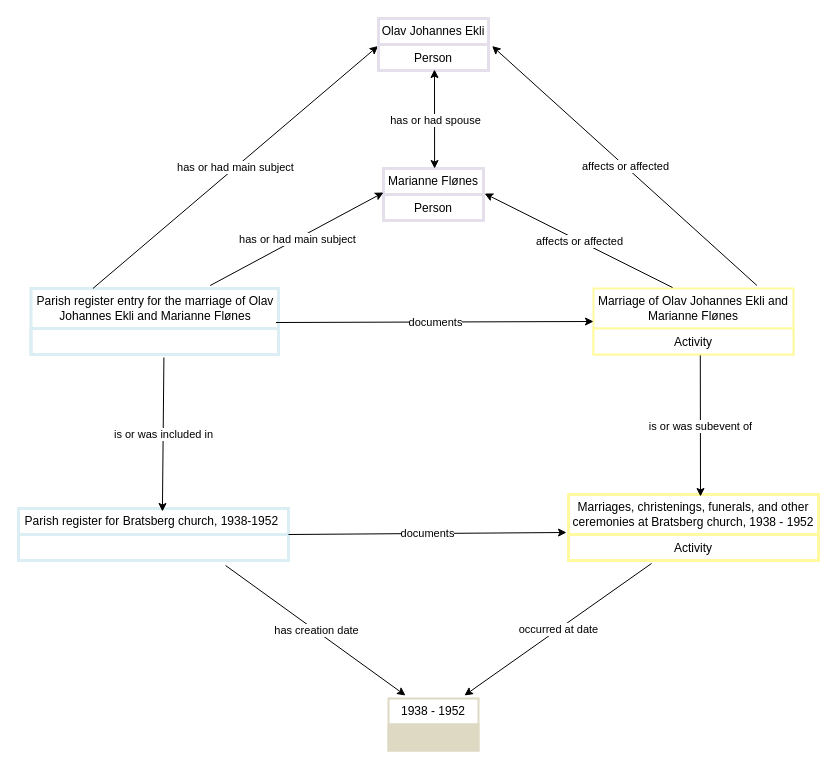
This 837x771 diagram has some shape labels left out. Here are the shapes that lost their labels. From the top down, the centre of each, then its label:
At point 154,341: "Record".
At point 153,547: "Record Set".
At point 433,737: "Date".
